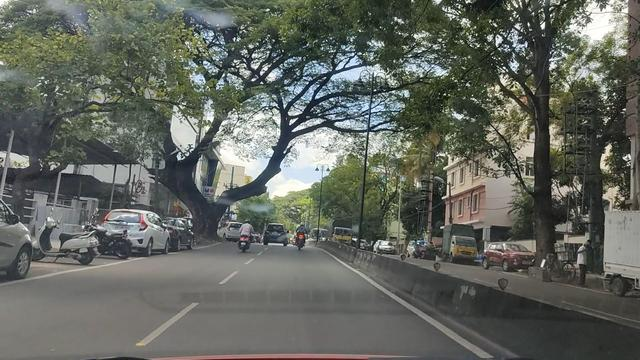LMV: (40, 213, 97, 267), (112, 212, 169, 257)
